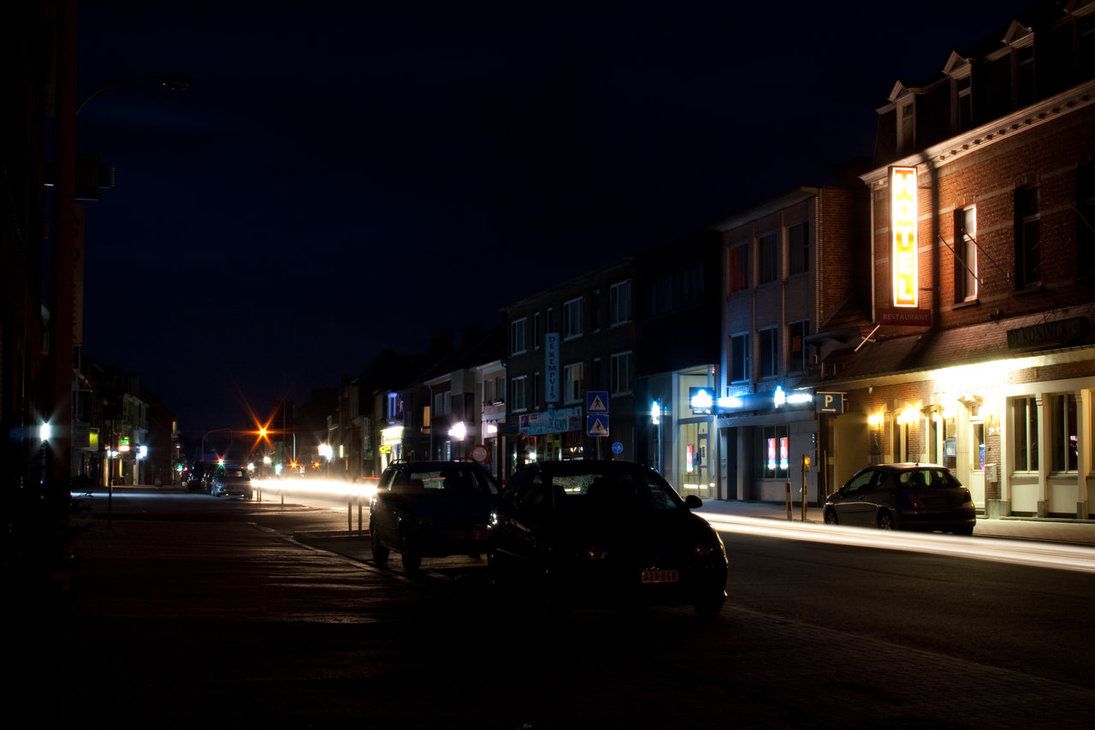car: (818, 457, 984, 546)
